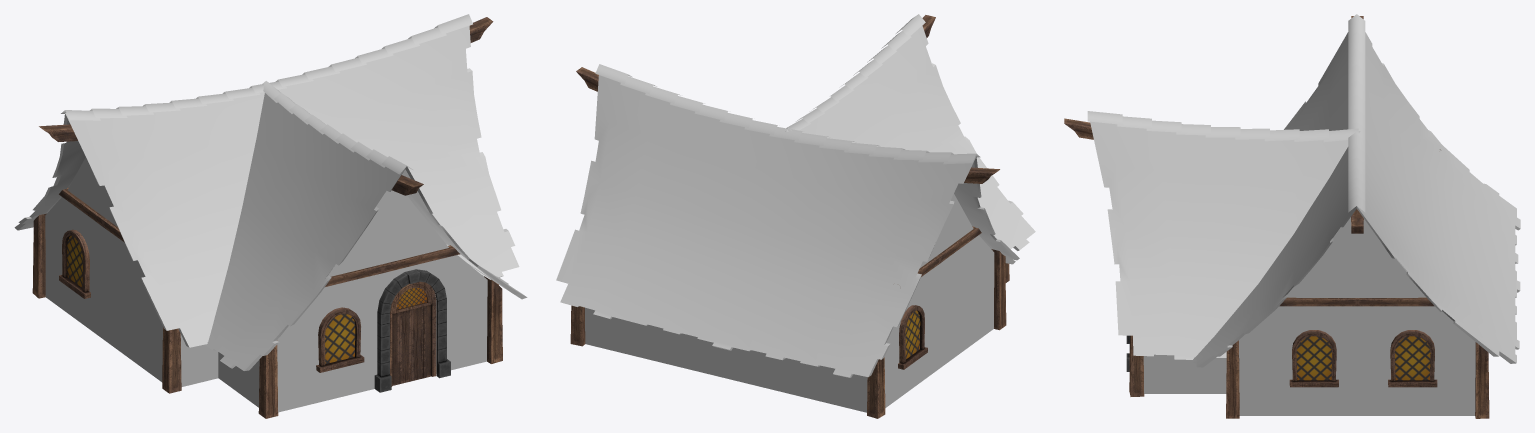
Rendered from A_House_02.FBX.
The picture shows the model from 3 angles, left to right: view 1: azimuth 30°, elevation 25°; view 2: azimuth 150°, elevation 25°; view 3: azimuth 270°, elevation 25°; orthographic projection. The views are drawn at different scales.
Parts seen in each view (by area): view 1: House_02; view 2: House_02; view 3: House_02.
Boxes of the visible parts, x1,y1,x2,y2 form: House_02: (14,14,527,418); House_02: (556,14,1035,418); House_02: (1064,14,1520,418).
Bounding box in the file's own units: 899 × 825 × 465.
